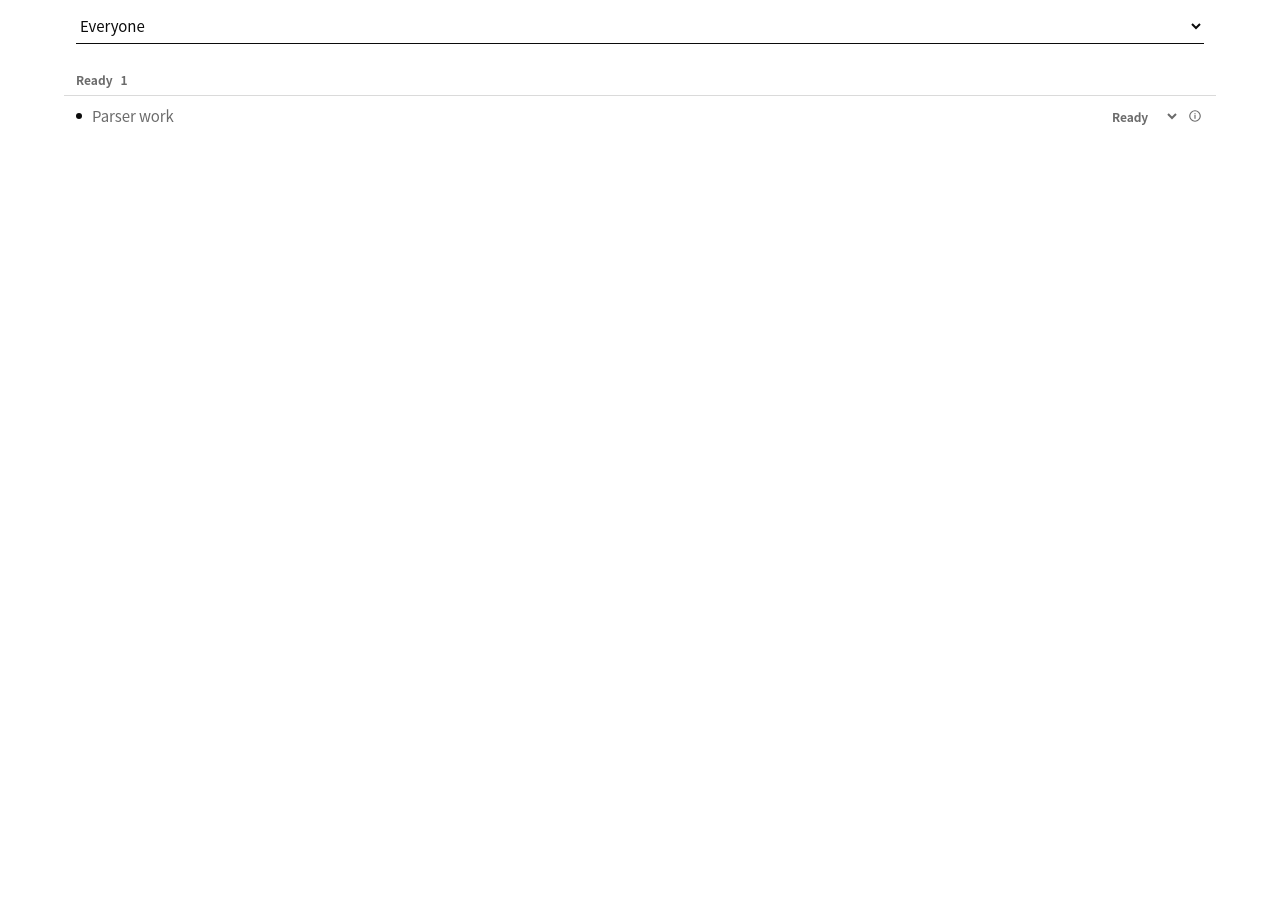
it: TaskSwitcher › opens the detail panel for a task that never ran instead of a dead row
Click the button "Parser work" at x=133, y=116, box [64,95,1100,138]
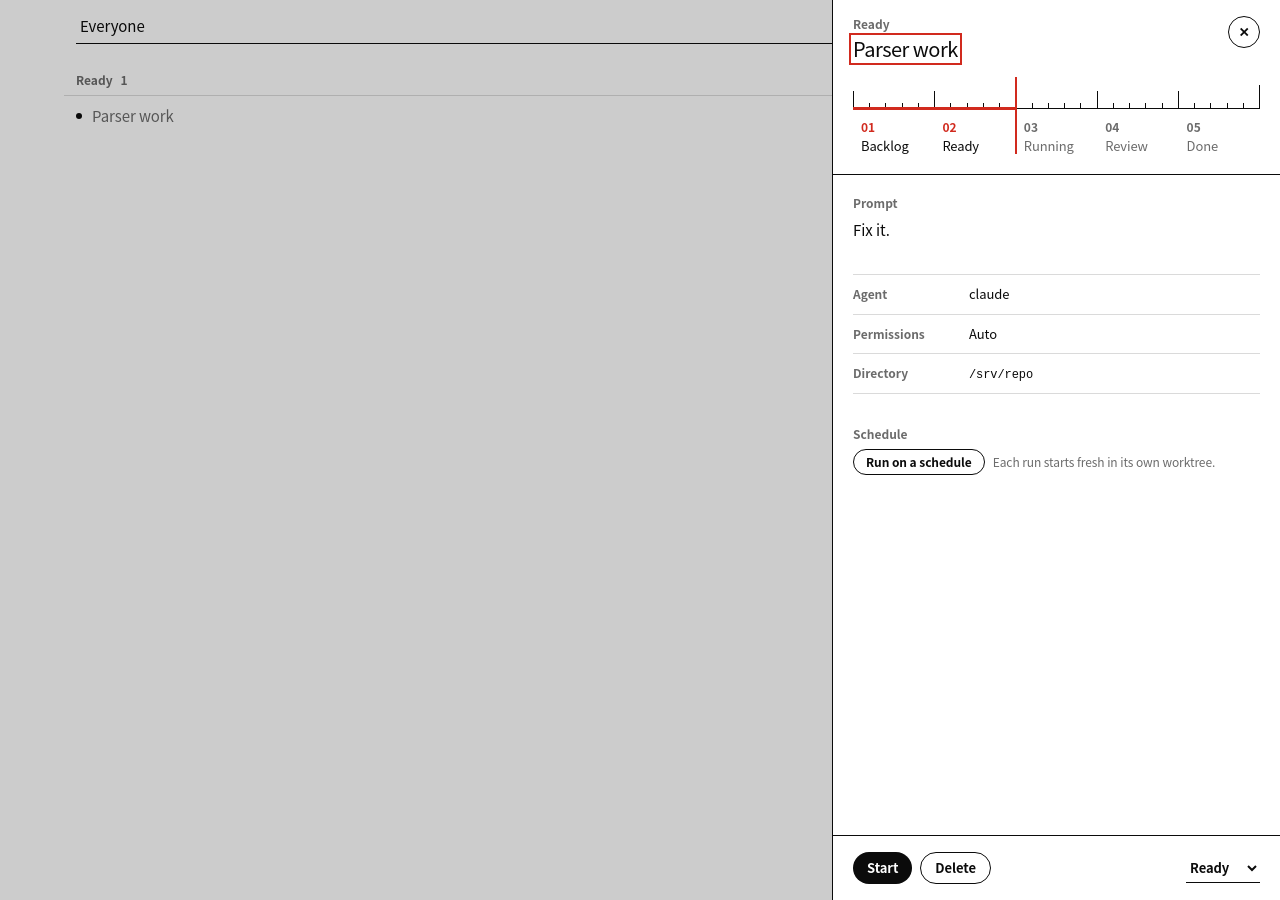
Result: the button "Start" is shown at [853,852,912,884]
